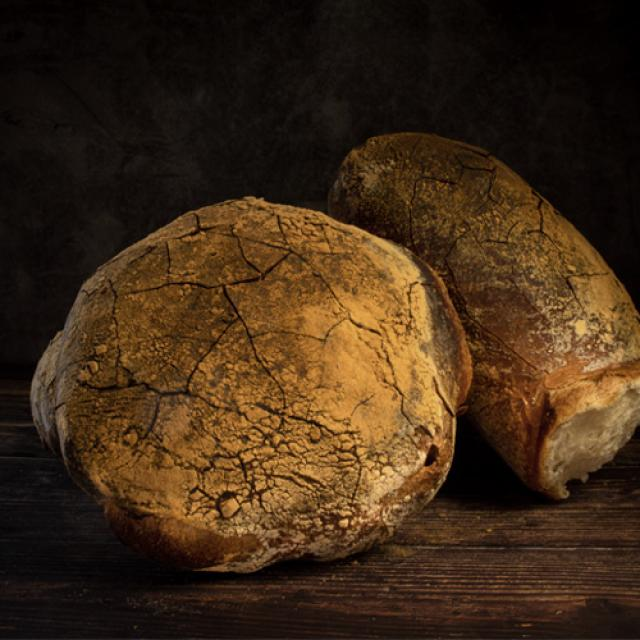Maltese-Bread: (32, 197, 471, 571), (329, 133, 639, 498)
